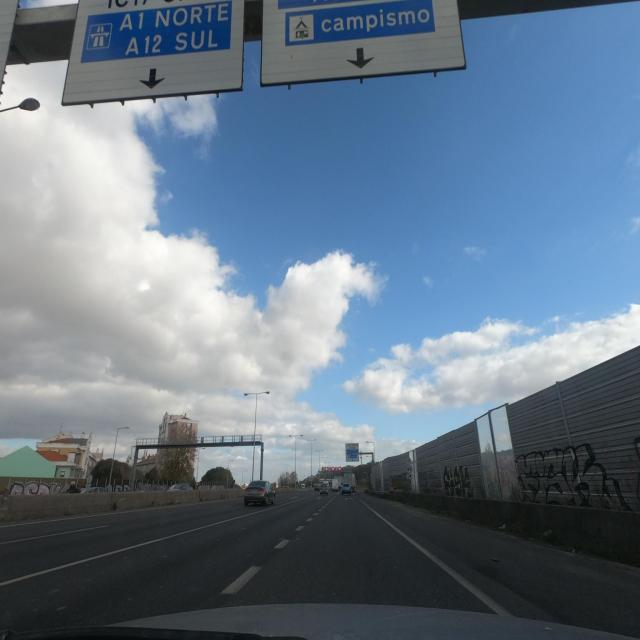car: (243, 479, 276, 506), (169, 482, 193, 492), (341, 483, 352, 495), (313, 484, 320, 492)
